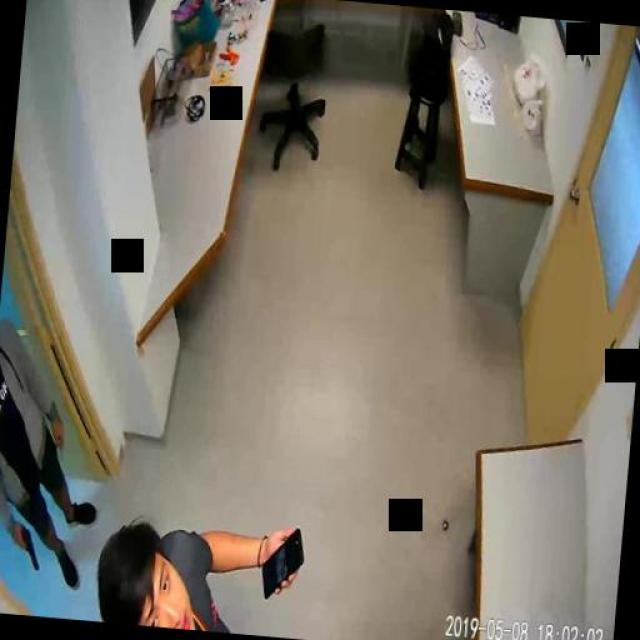gun: (15, 524, 41, 568)
